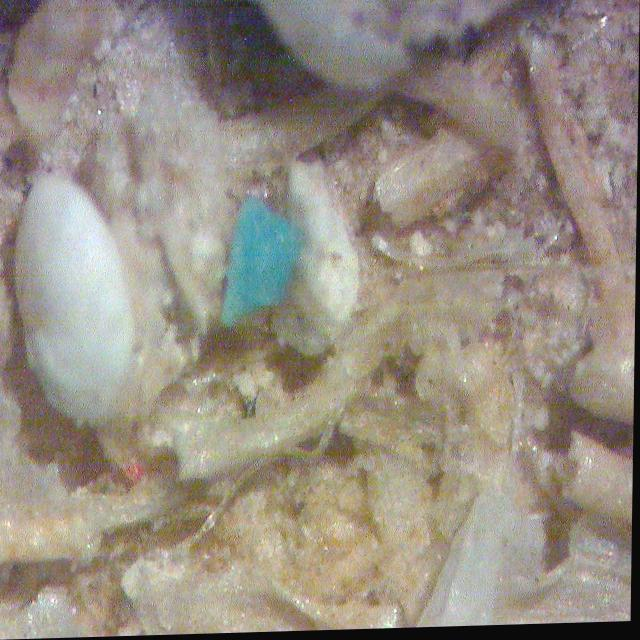microplastic: (204, 197, 308, 341)
